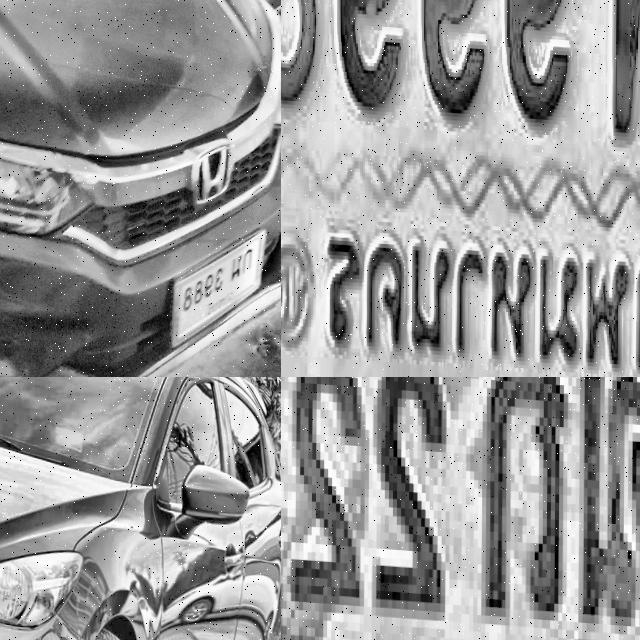license-plate: (281, 0, 640, 377), (281, 377, 640, 640), (170, 212, 267, 352)
